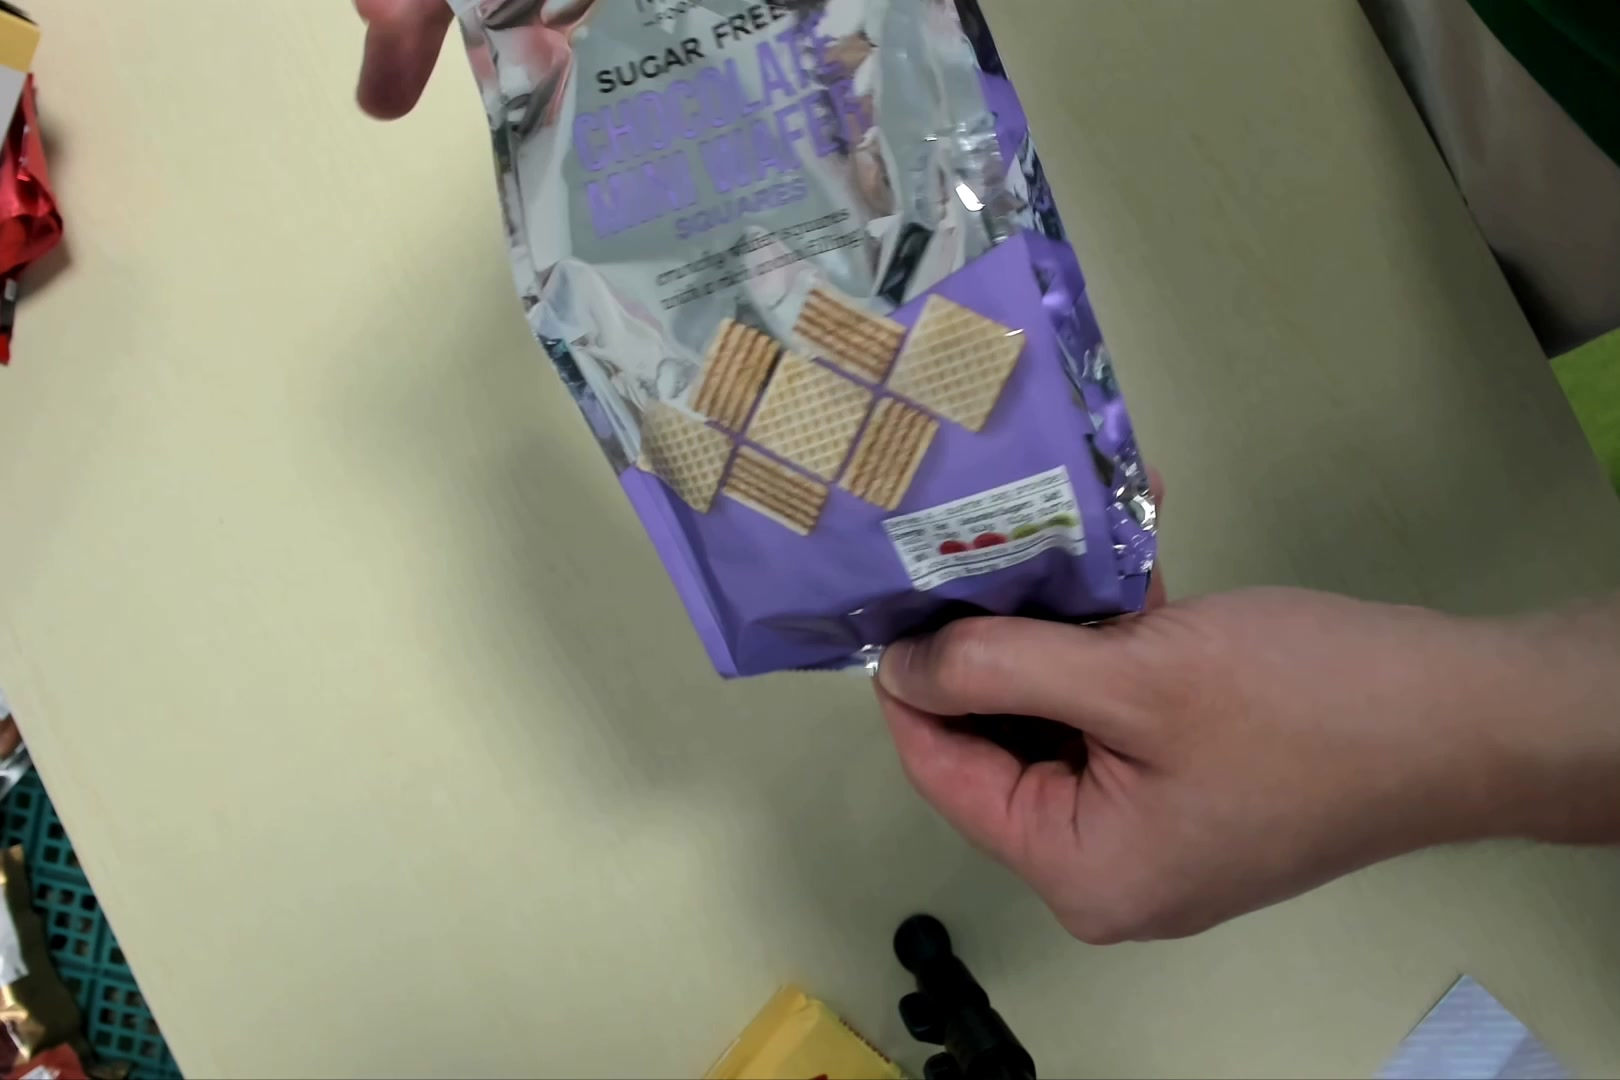SweetsChocolatesOthers_100-199g_NonHalal_NonHealthy: (457, 6, 1160, 679)
